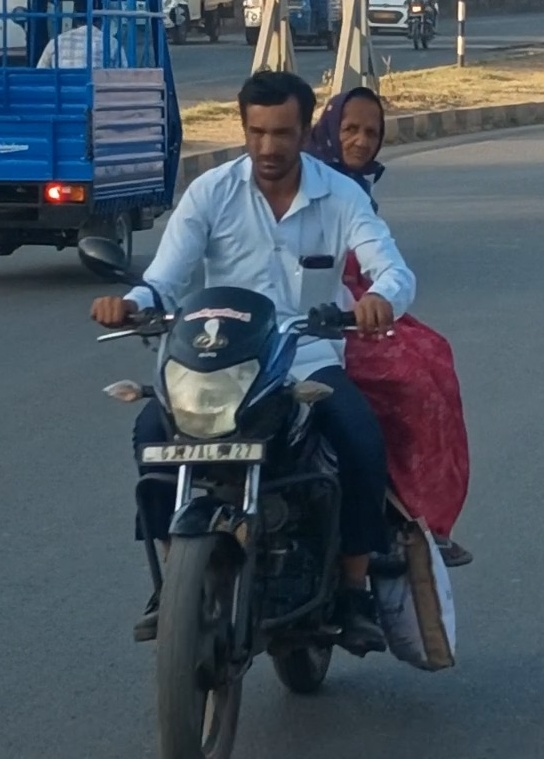BikeWithRider: (71, 62, 483, 759)
NoHelmet: (224, 64, 324, 185), (307, 80, 395, 180)
